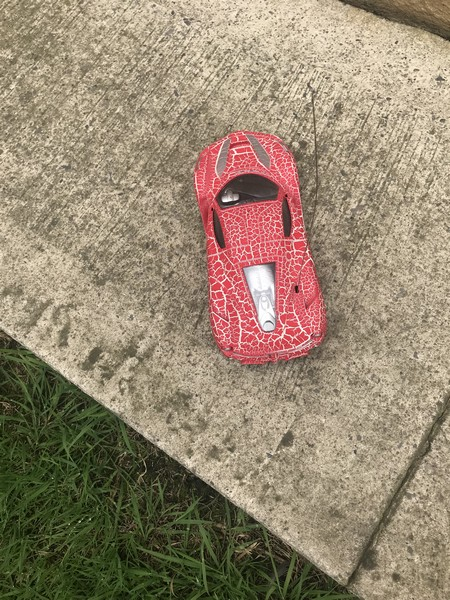RC: (192, 130, 326, 365)
